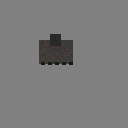armoured_vehicle: (39, 40, 73, 64)
